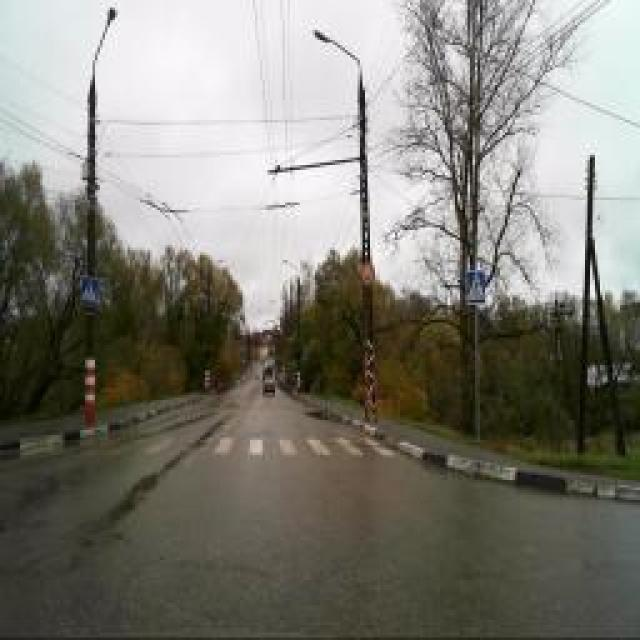sign: (359, 259, 376, 289)
